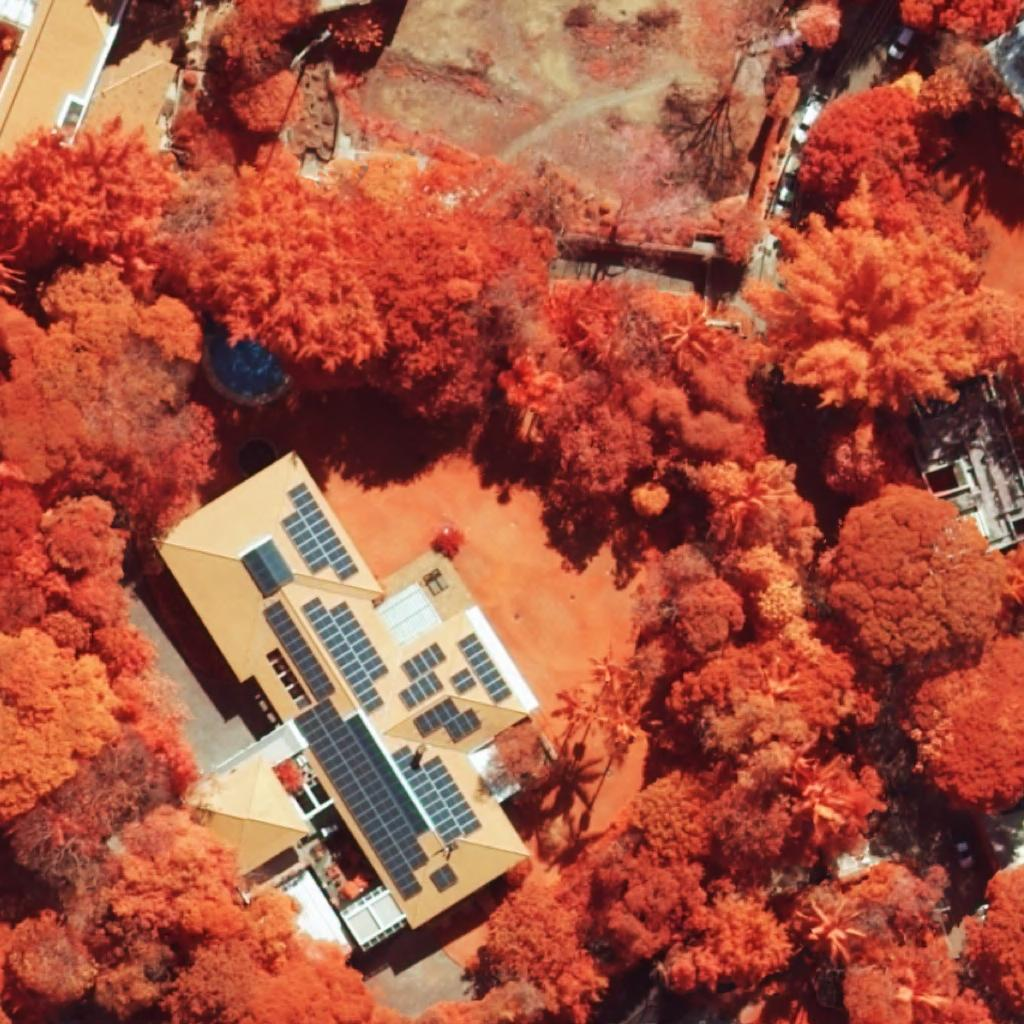pool: (211, 340, 284, 396)
